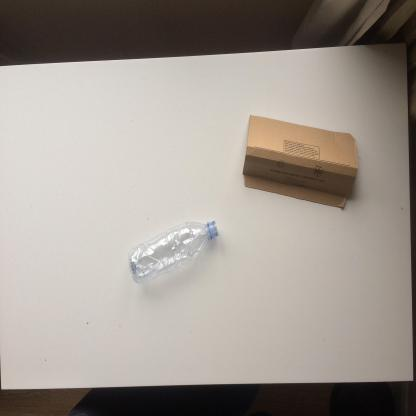karton: (242, 114, 358, 208)
plastik: (129, 220, 219, 284)
